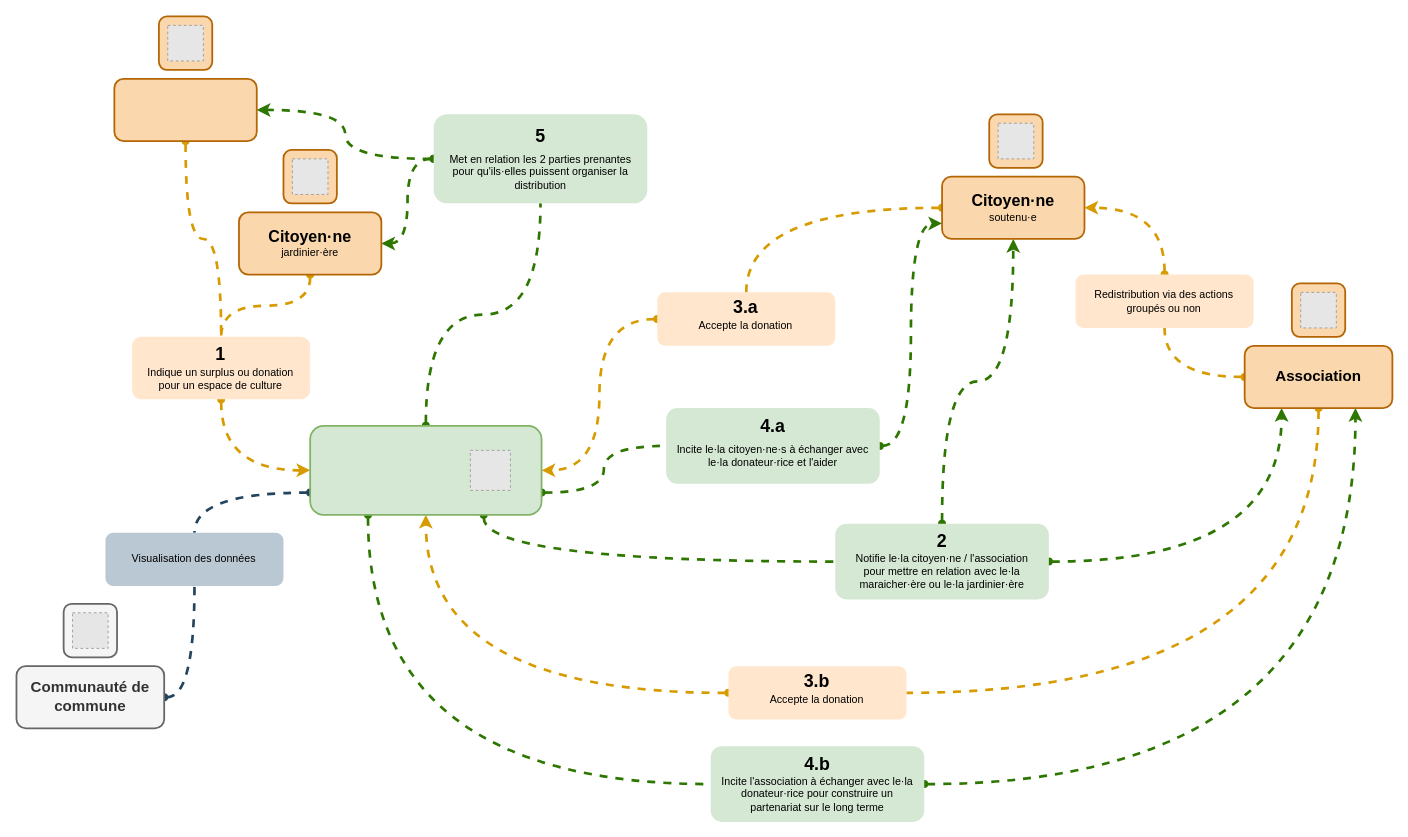
This 1408x837 diagram has some shape labels left out. Grey dashed boxes stand in for pictures. The shapes that lost their labels are listed below. From the top down, each one's box as (x1, y1, x2, y2) in pixels, then its label:
(113, 77, 257, 142): Maraîcher·ère
(309, 425, 542, 515): Tera App app.tera.lychen.fr
